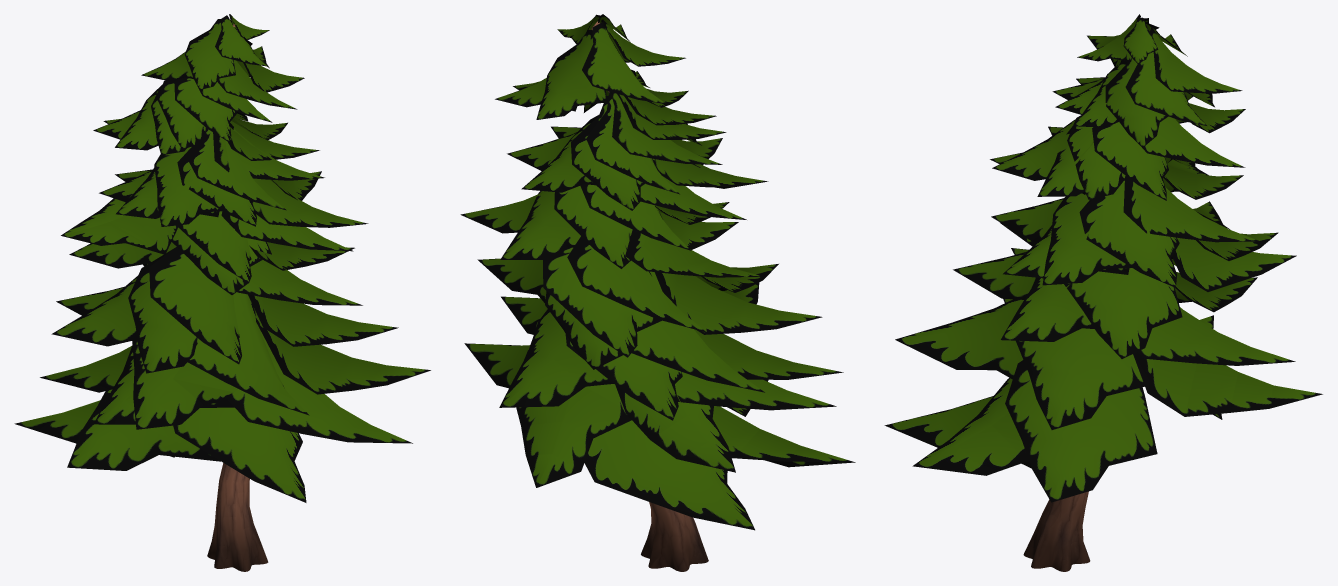
File: pine_5.gltf
The picture shows the model from 3 angles, left to right: view 1: azimuth 30°, elevation 25°; view 2: azimuth 150°, elevation 25°; view 3: azimuth 270°, elevation 25°; orthographic projection. The views are drawn at different scales.
Visible parts, largest first — view 1: Pine_5; view 2: Pine_5; view 3: Pine_5.
Boxes of the visible parts, box(x1,y1,x2,y2) form: Pine_5: box(14, 14, 430, 571); Pine_5: box(460, 14, 855, 571); Pine_5: box(884, 14, 1322, 571).
Bounding box in the file's own units: 6.42 × 8.72 × 6.22.
2 materials, 2 textured.
